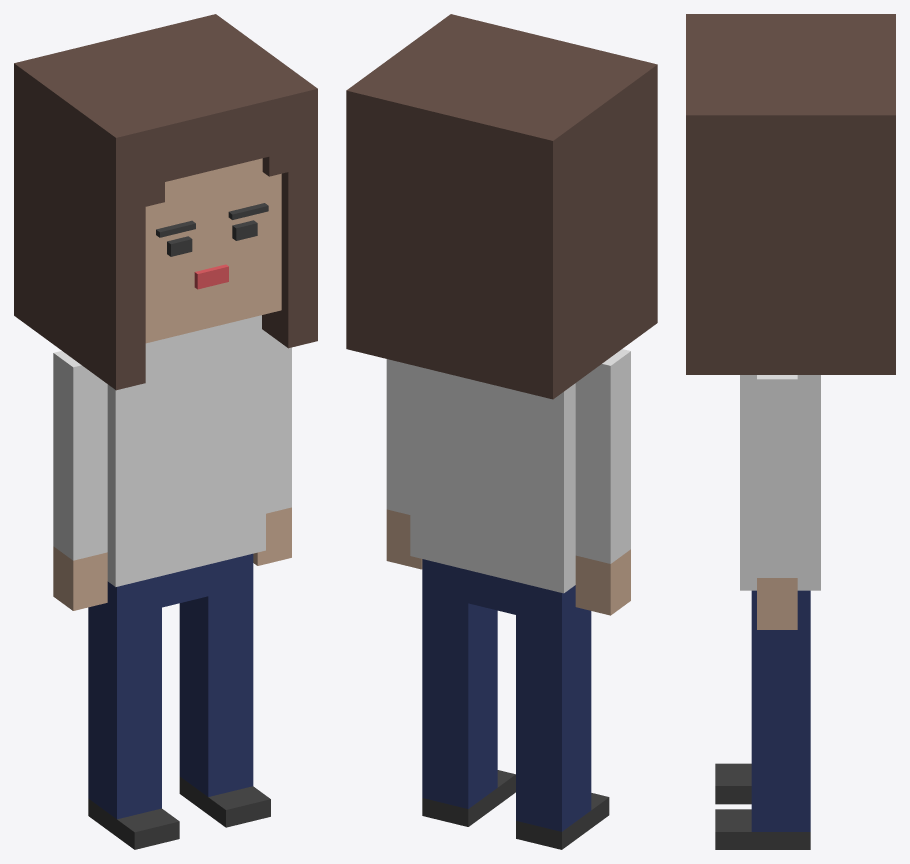
The model's file is customer2.fbx.
The picture shows the model from 3 angles, left to right: view 1: azimuth 30°, elevation 25°; view 2: azimuth 150°, elevation 25°; view 3: azimuth 270°, elevation 25°; orthographic projection. The views are drawn at different scales.
Visible parts, largest first — view 1: customer; view 2: customer; view 3: customer.
Part boxes in pixels (bbox=[...]): customer: bbox=[14, 14, 317, 849]; customer: bbox=[346, 14, 657, 849]; customer: bbox=[686, 14, 895, 849].
Bounding box in the file's own units: 6.19 × 19.75 × 5.
